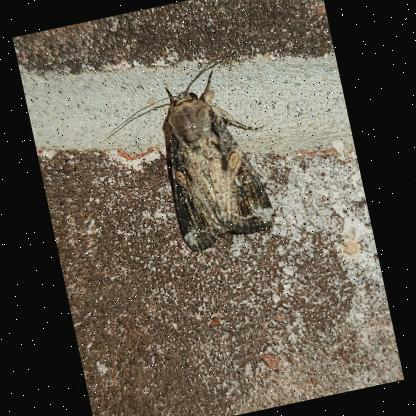Fall Armyworm Moth: (93, 36, 291, 268)
